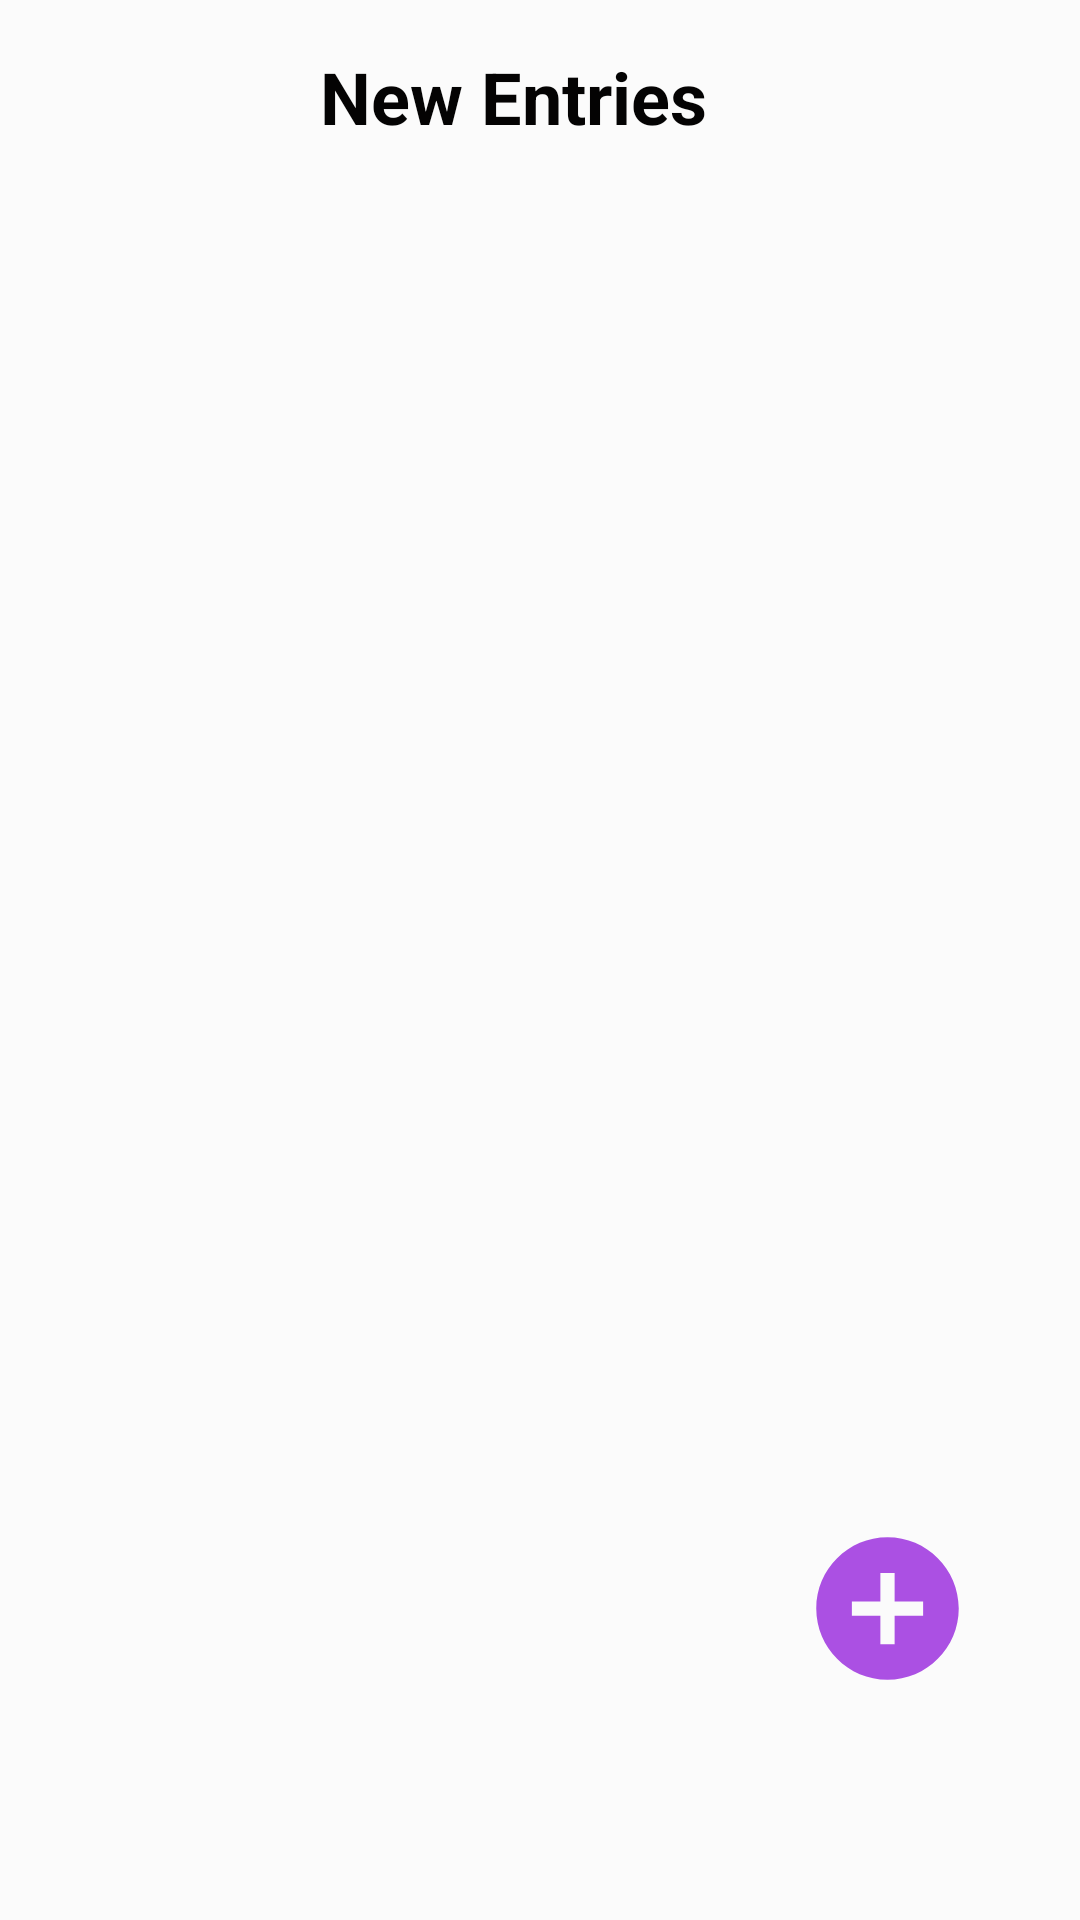

Screen size 1080px×1920px. Icon name, then its center in pixels as [x,y]:
add circle: [887,1608]
